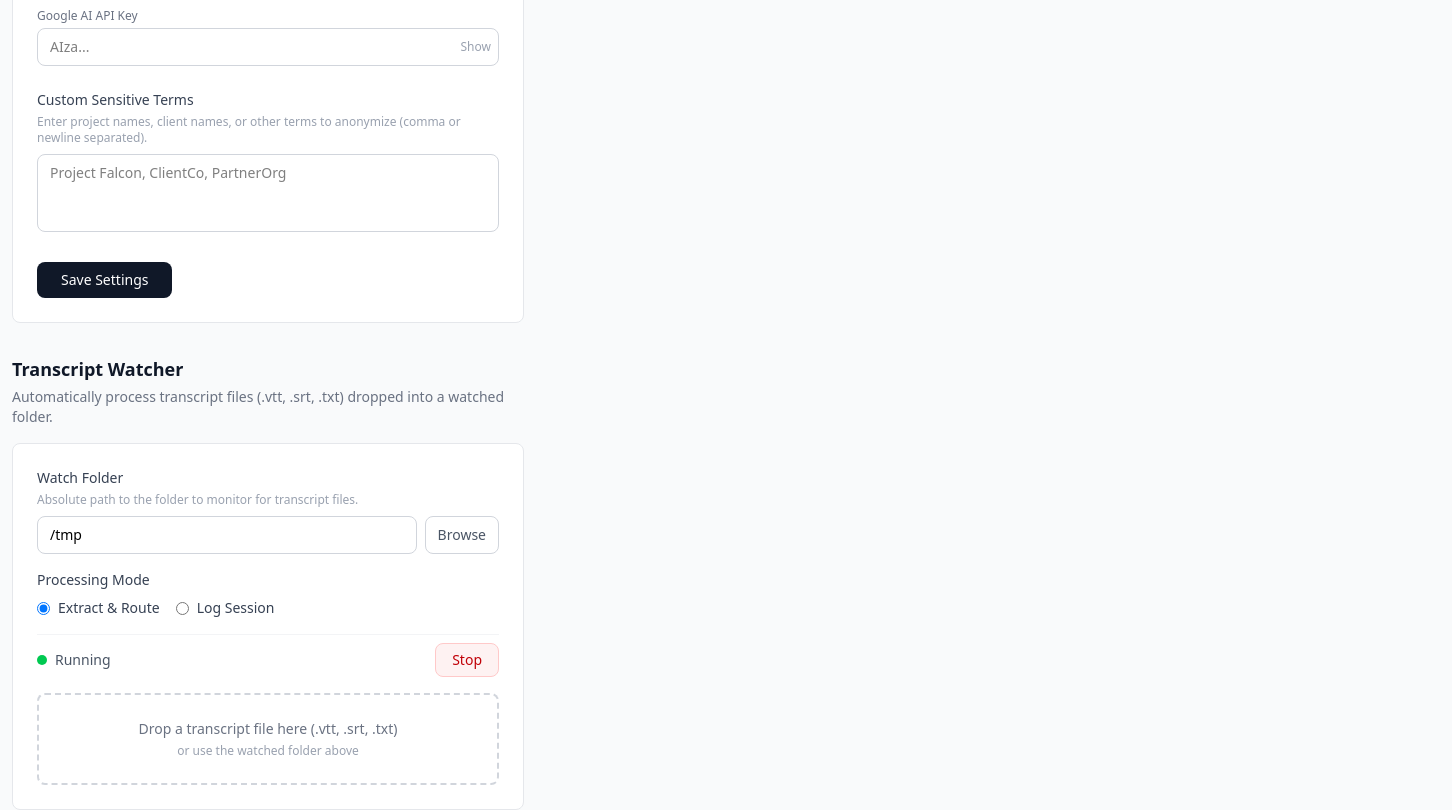
Settings — Transcript Watcher › stops watcher on Stop click
The width and height of the screenshot is (1452, 810).
(page scrolled)
What coordinates should you click on to do the following:
click the button "Stop"
I would click on:
 (467, 660)
Its box is [435,643,499,677].
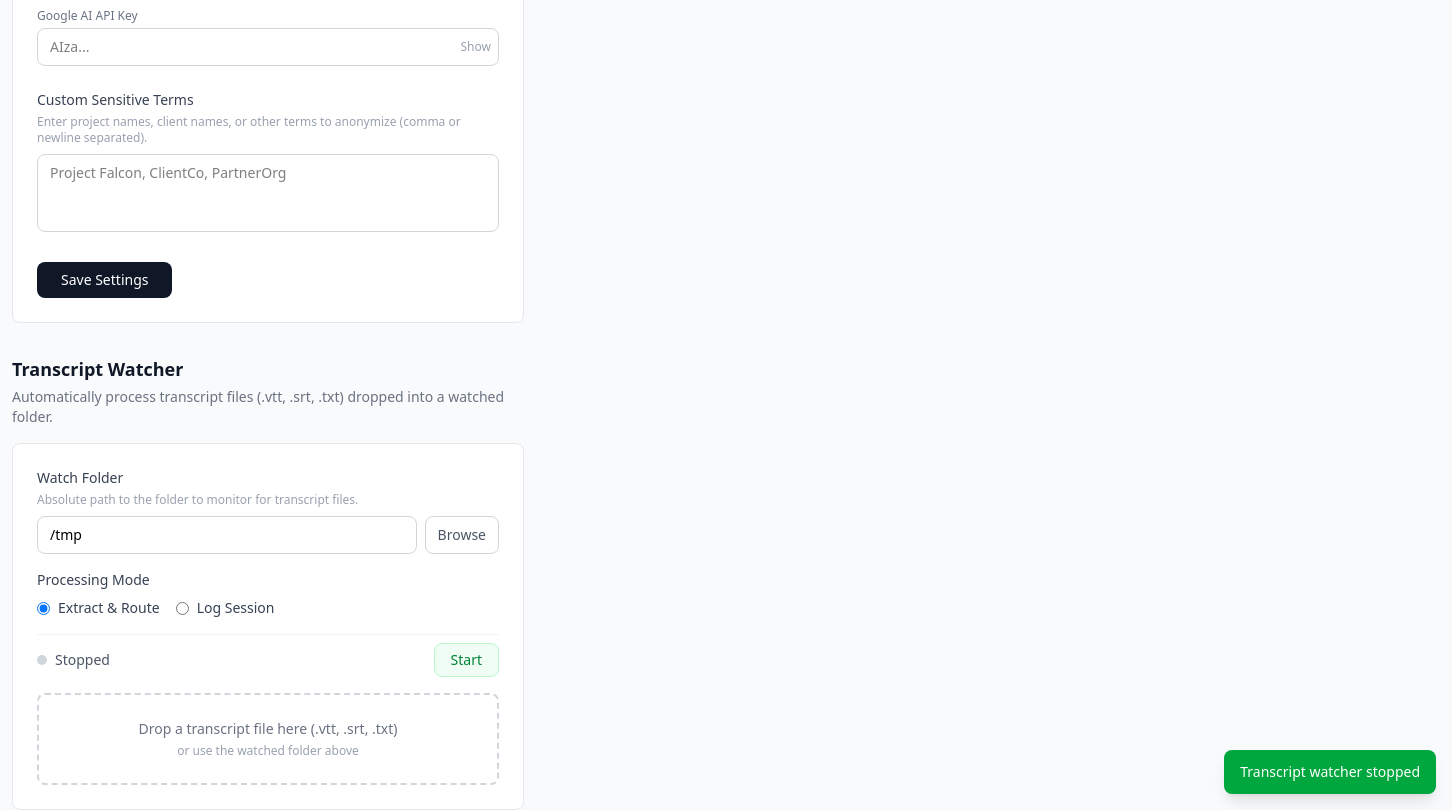
Expected: the text "Transcript watcher stopped" is shown, [1224,750,1436,794]
